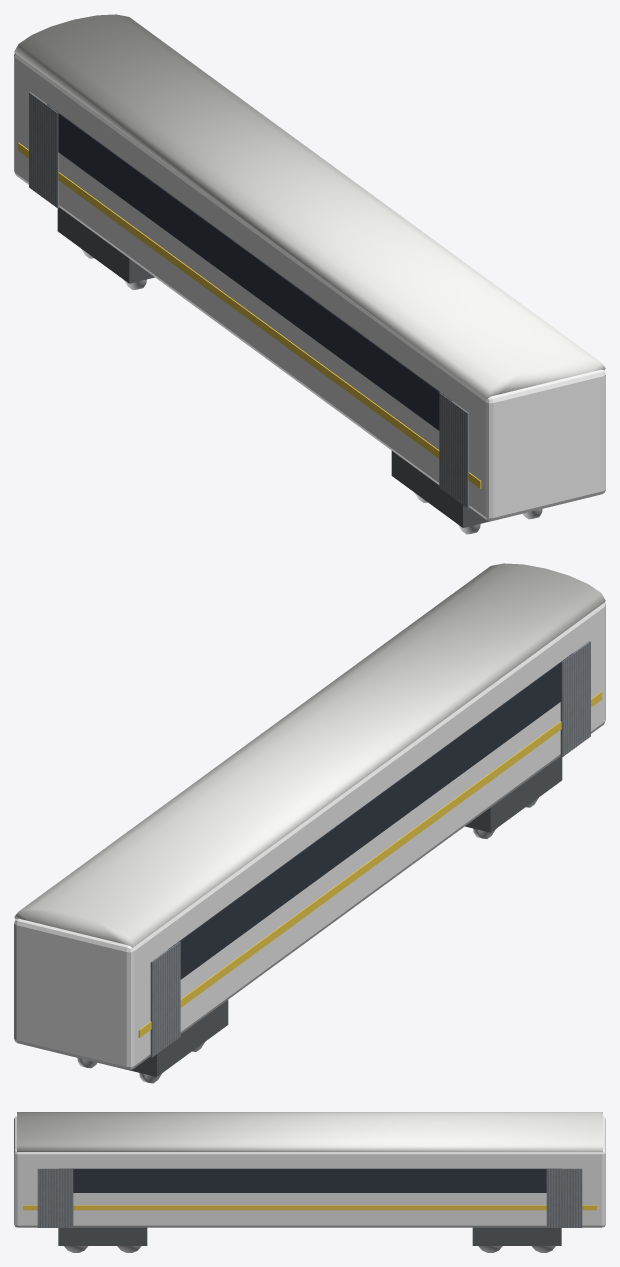
File: carriage.gltf
3 renders of one model, top to bottom at view 1: azimuth 30°, elevation 25°; view 2: azimuth 150°, elevation 25°; view 3: azimuth 270°, elevation 25°, orthographic. The views are drawn at different scales.
Visible parts, largest first — view 1: carriage; view 2: carriage; view 3: carriage.
Part boxes in pixels (<box>): carriage: <box>14,14,605,534</box>; carriage: <box>14,563,605,1083</box>; carriage: <box>14,1112,605,1252</box>.
Bounding box in the file's own units: 0.596 × 0.8989 × 4.
Materials: 7 (1 with a texture image).
